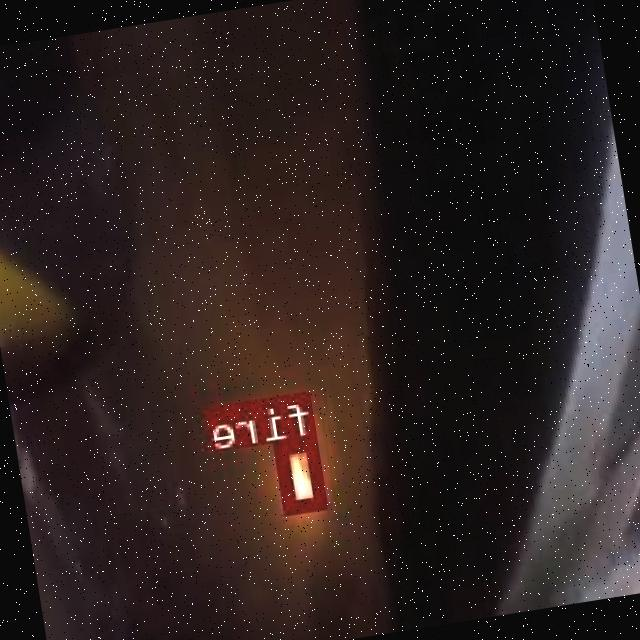fire: (276, 434, 330, 512)
